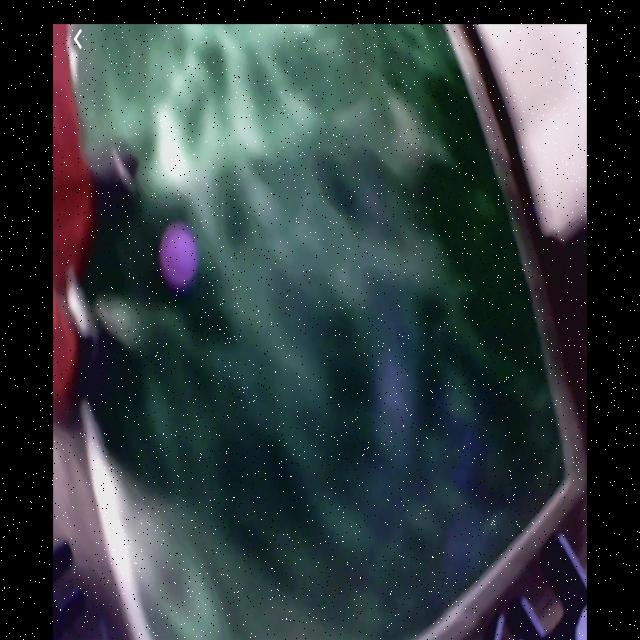ball: (162, 226, 198, 287)
